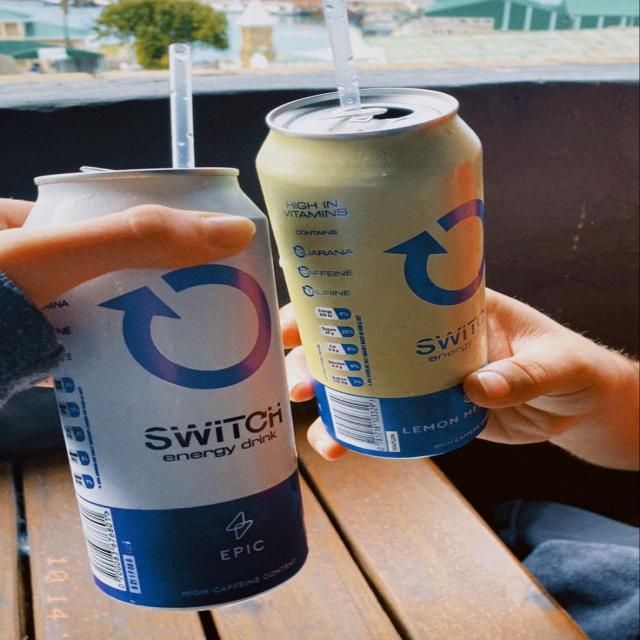can: (26, 165, 312, 612), (253, 80, 492, 460)
